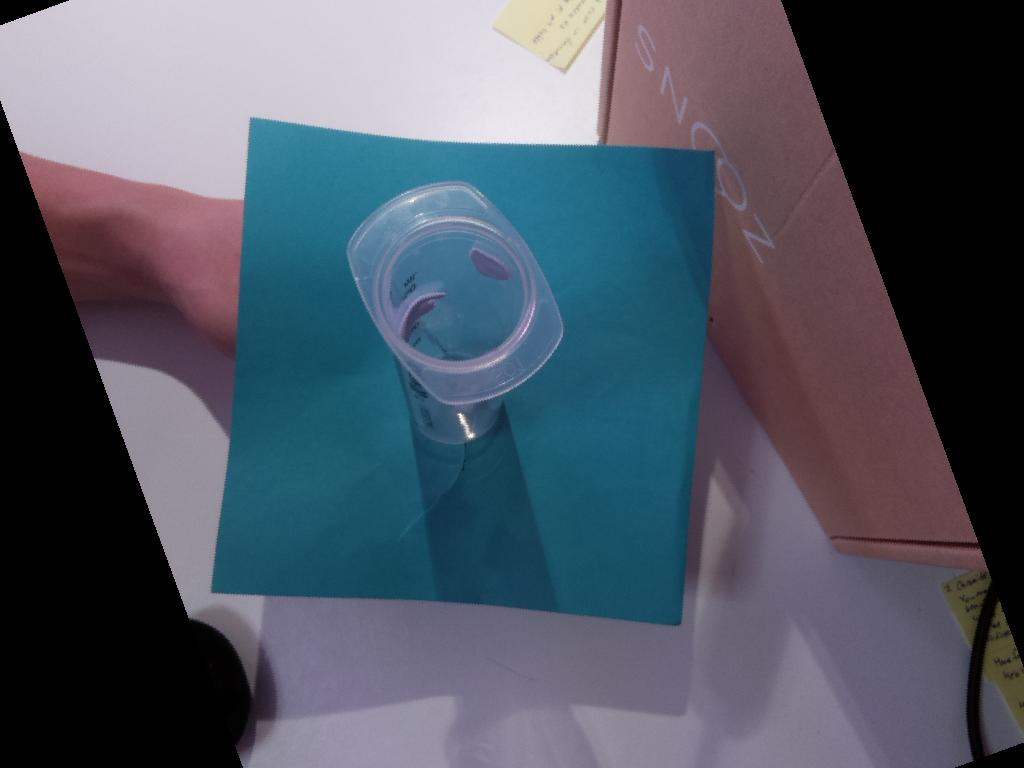dirty: (345, 180, 564, 407)
